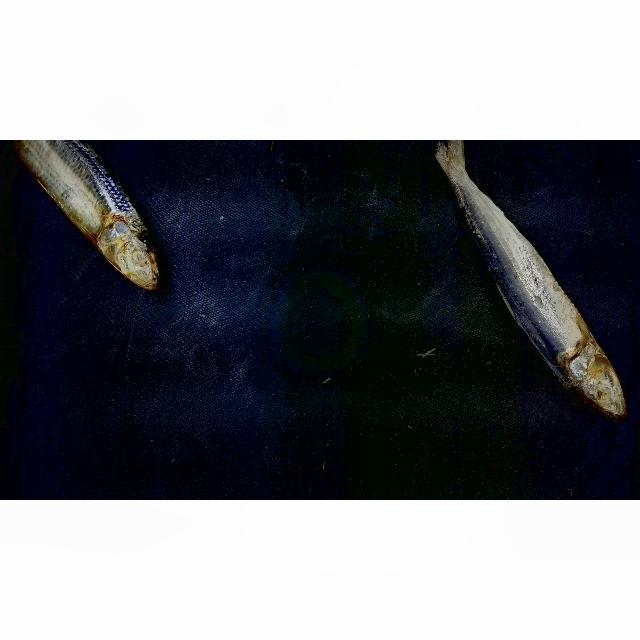Grade_A_Body: (464, 231, 606, 348), (4, 143, 153, 226)
Grade_A_Head: (537, 353, 634, 420), (83, 232, 177, 296)
Grade_A_Tail: (425, 145, 530, 231)
